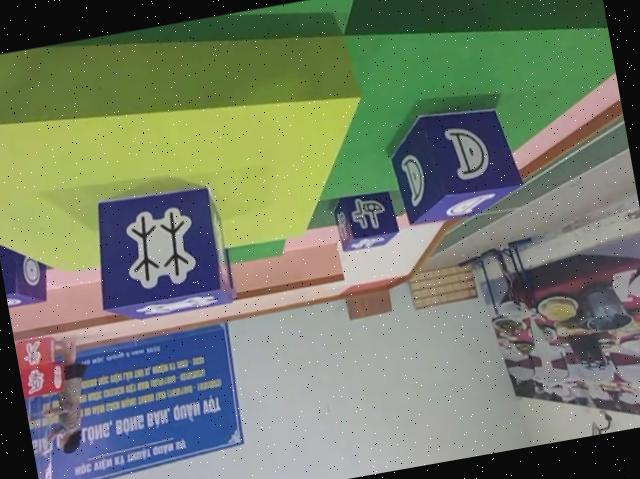R2 Real Blue: (86, 175, 238, 321), (385, 96, 527, 226), (329, 185, 400, 251), (0, 229, 50, 306)
